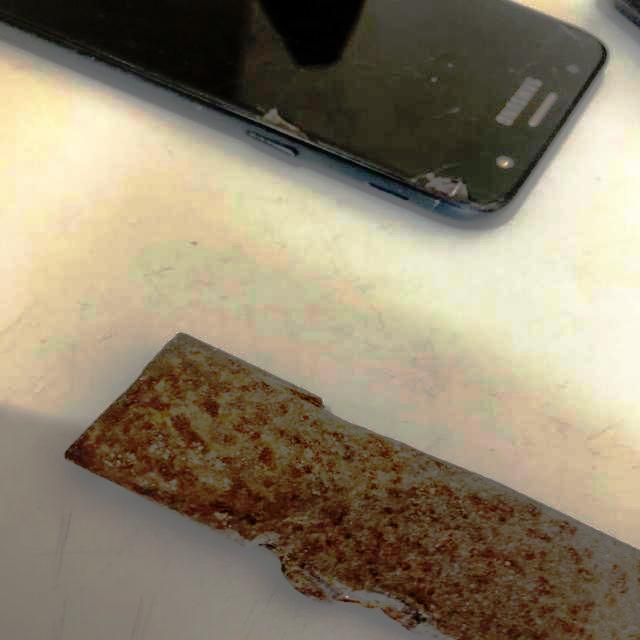Corrosion: (60, 331, 640, 640)
